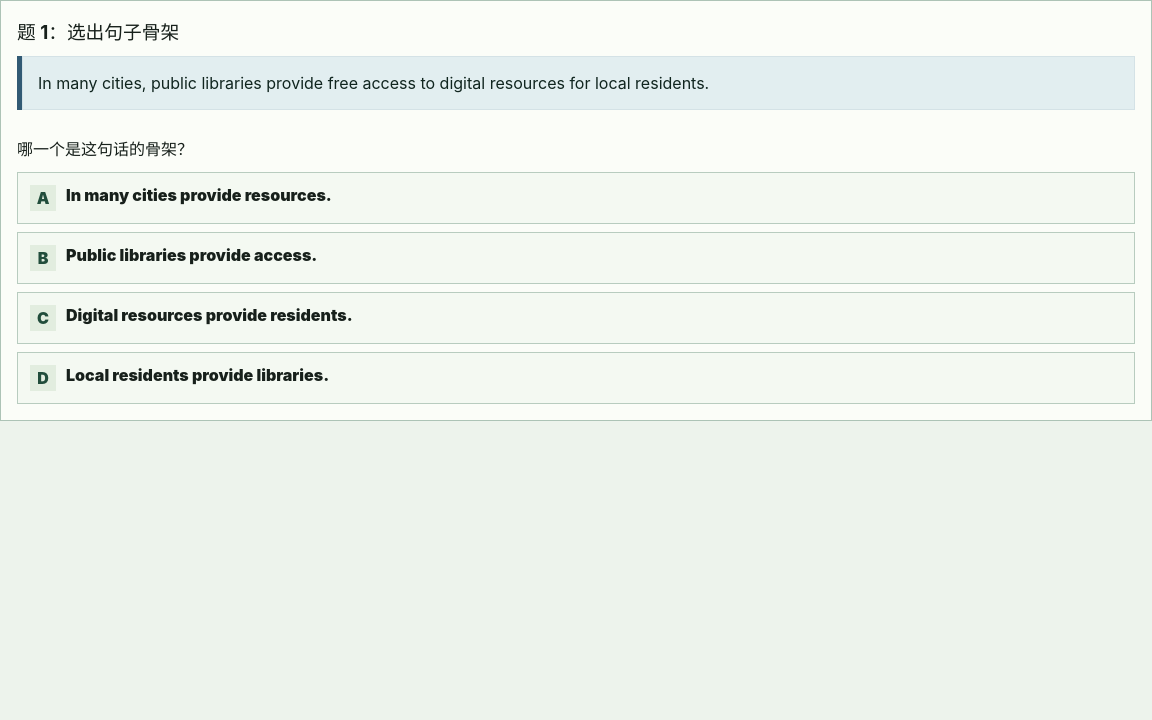
Test case: PracticeQuestion › shows a color-coded sentence component breakdown after answering
The image size is (1152, 720).
Click the button "B Public libraries provide access.": [192, 255] box [17, 232, 1135, 284]
(page scrolled)
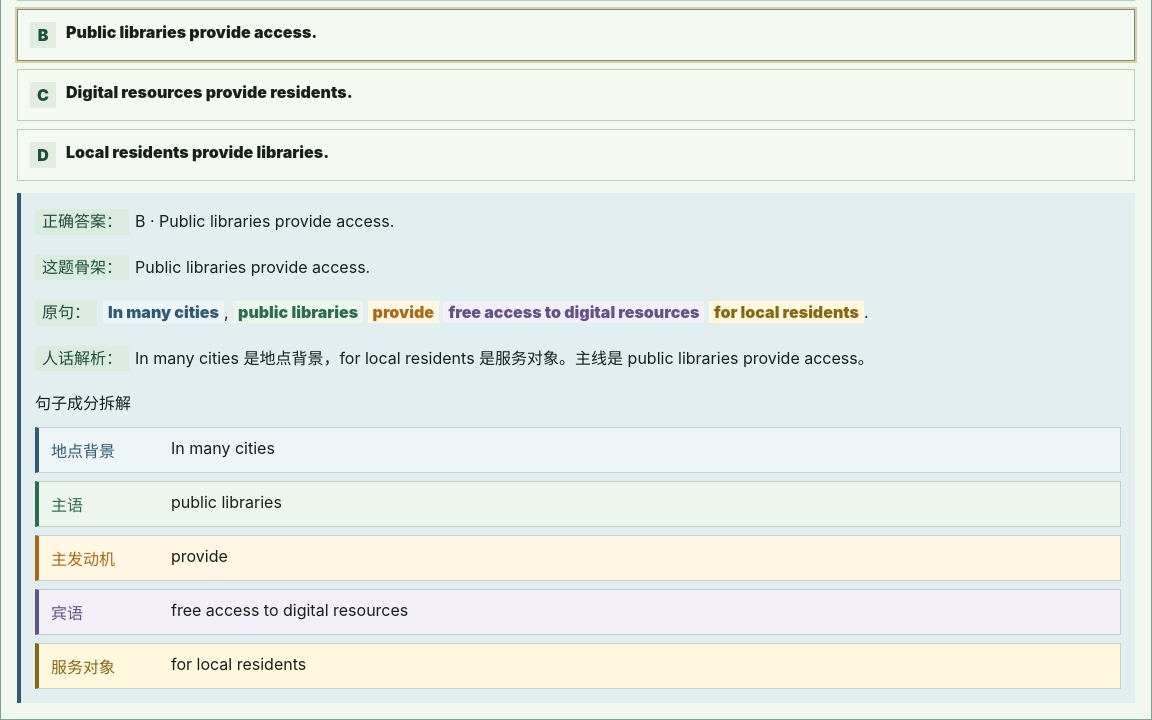
Check: the text "地点背景" is shown, box [51, 441, 115, 461]
Check: the text "In many cities" below "句子成分拆解" is shown, box [171, 438, 275, 458]
Check: the text "public libraries" next to "主语" is shown, box [171, 492, 282, 512]
